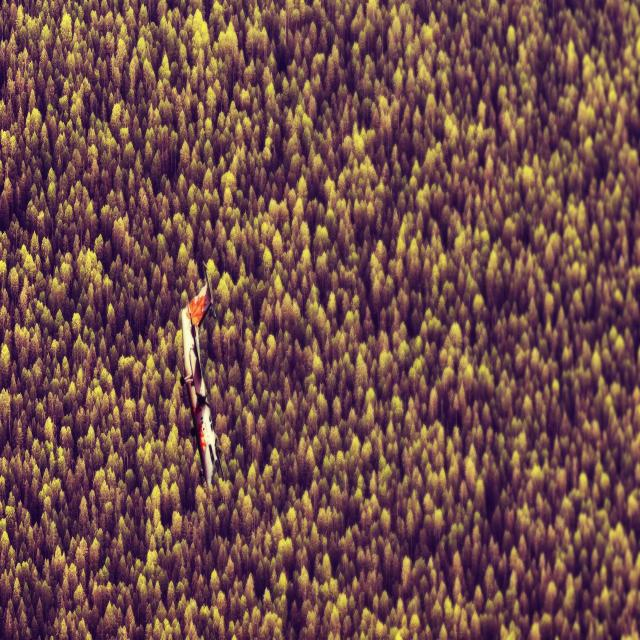airplane: (178, 264, 226, 491)
